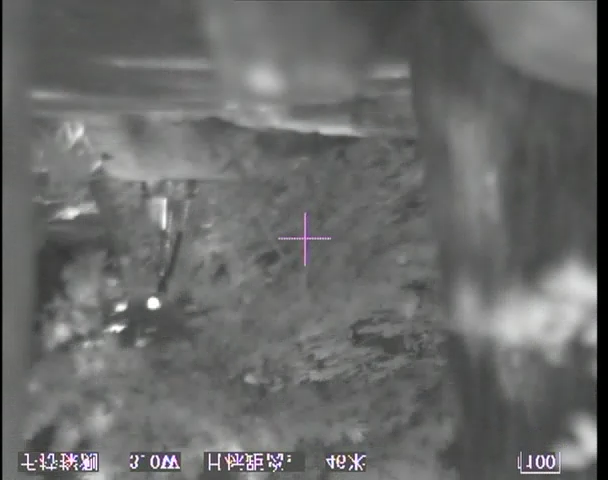my: (145, 296, 161, 312)
